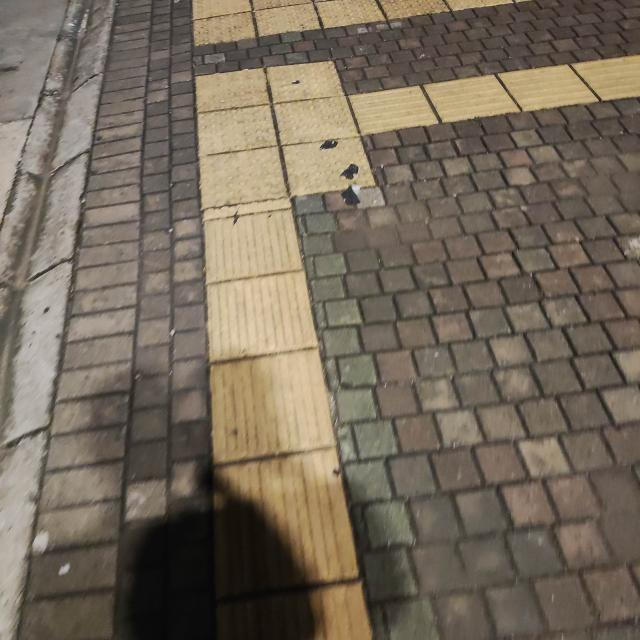kanan: (146, 78, 500, 224)
